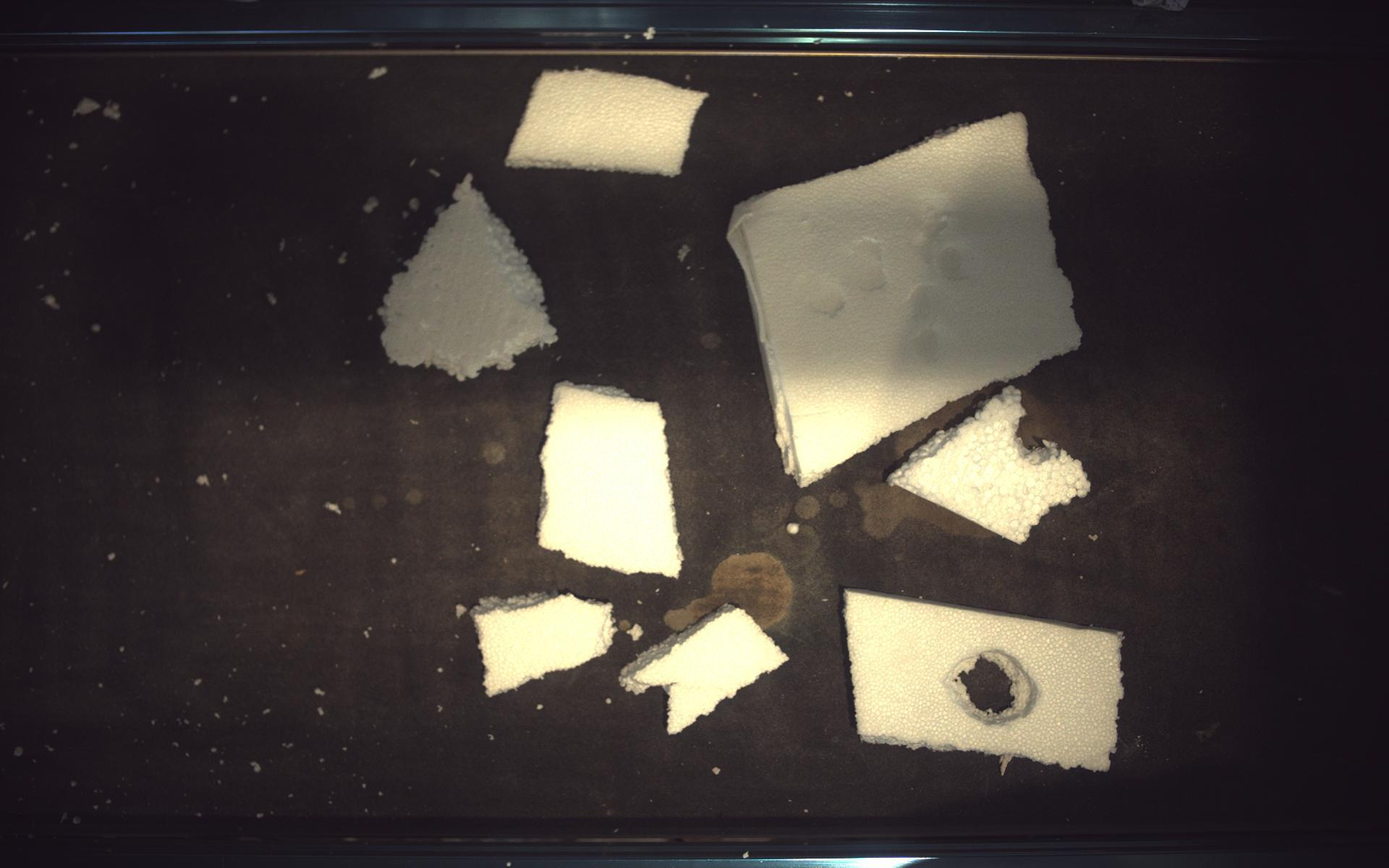foam: (729, 112, 1083, 484), (846, 590, 1126, 772), (377, 173, 557, 380), (890, 386, 1093, 544), (539, 381, 684, 578), (506, 67, 710, 176), (622, 605, 789, 736), (472, 594, 616, 698)
